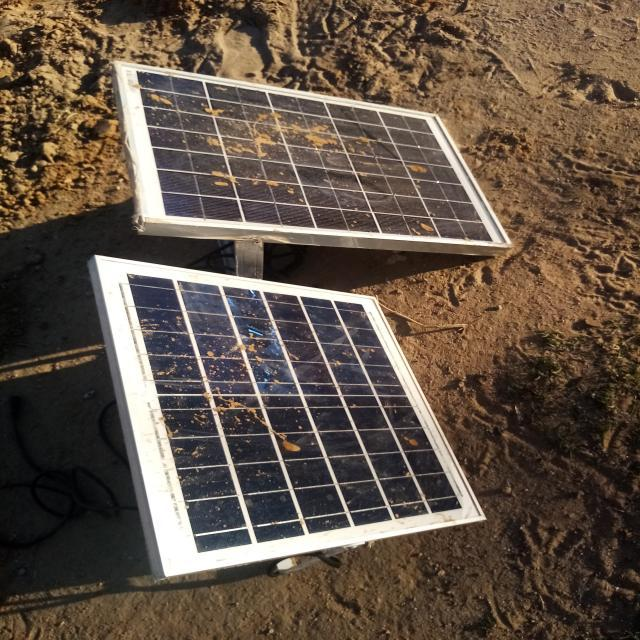faulty: (101, 258, 482, 575), (119, 63, 511, 243)
